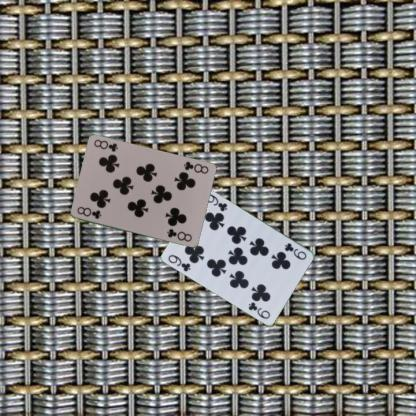8c: (181, 159, 209, 175), (75, 204, 102, 220)
9c: (282, 240, 308, 262), (166, 252, 192, 273)
